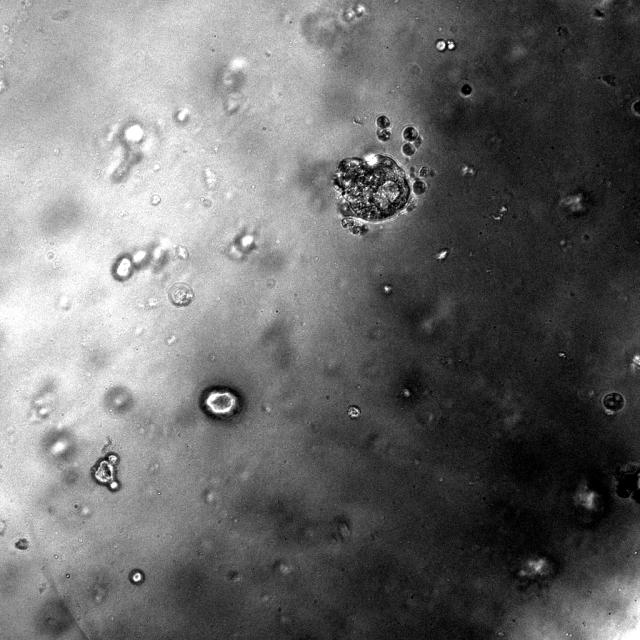organoid: (334, 153, 435, 236), (199, 386, 241, 418), (91, 452, 119, 491), (614, 463, 639, 503), (401, 125, 422, 156), (168, 282, 194, 307), (601, 391, 624, 415), (376, 115, 391, 142), (435, 39, 456, 51), (129, 569, 144, 585), (14, 537, 30, 550), (347, 405, 361, 419), (631, 99, 639, 116), (461, 83, 472, 95)
